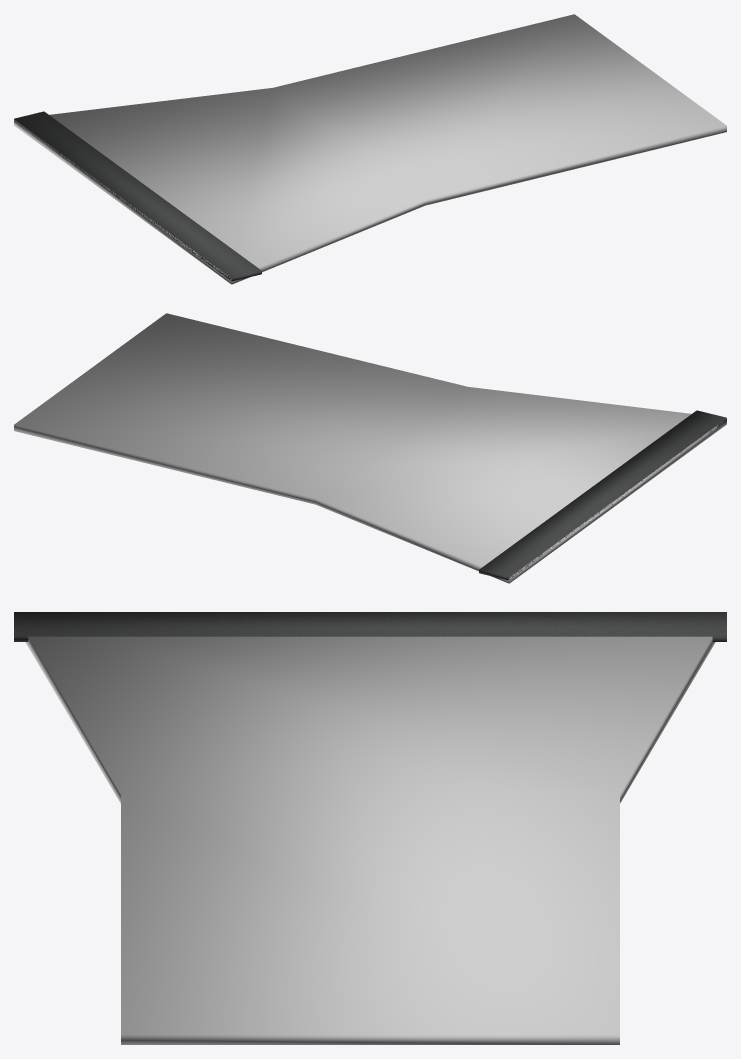
Rendered from Driveway_FlaredEntrance.fbx.
3 renders of one model, top to bottom at view 1: azimuth 30°, elevation 25°; view 2: azimuth 150°, elevation 25°; view 3: azimuth 270°, elevation 25°, orthographic. The views are drawn at different scales.
Parts seen in each view (by area): view 1: Driveway_FlaredEntrance_Concrete, Driveway_FlaredEntrance_Apron; view 2: Driveway_FlaredEntrance_Concrete, Driveway_FlaredEntrance_Apron; view 3: Driveway_FlaredEntrance_Concrete, Driveway_FlaredEntrance_Apron.
Boxes of the visible parts, bbox=[...] form: Driveway_FlaredEntrance_Concrete: bbox=[14, 14, 726, 284]; Driveway_FlaredEntrance_Apron: bbox=[14, 111, 261, 281]; Driveway_FlaredEntrance_Concrete: bbox=[14, 313, 726, 583]; Driveway_FlaredEntrance_Apron: bbox=[479, 410, 726, 580]; Driveway_FlaredEntrance_Concrete: bbox=[25, 636, 715, 1044]; Driveway_FlaredEntrance_Apron: bbox=[14, 612, 726, 641].
Bounding box in the file's own units: 7 × 0.085 × 5.
